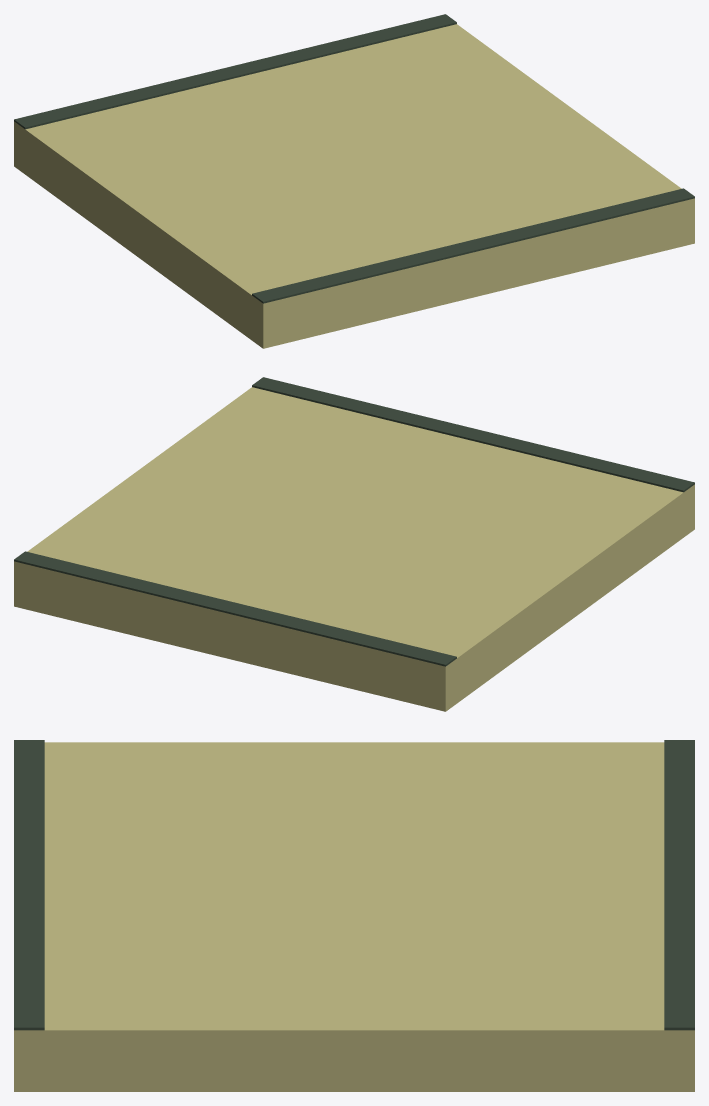
The model's file is sakura_floor_tatami.glb.
3 views of the same model, one above another, from view 1: azimuth 30°, elevation 25°; view 2: azimuth 150°, elevation 25°; view 3: azimuth 270°, elevation 25° (orthographic). The views are drawn at different scales.
Parts seen in each view (by area): view 1: sakura_floor_tatami; view 2: sakura_floor_tatami; view 3: sakura_floor_tatami.
Boxes of the visible parts, <box> form: sakura_floor_tatami: <box>14,14,694,348</box>; sakura_floor_tatami: <box>14,377,694,711</box>; sakura_floor_tatami: <box>14,740,694,1091</box>.
Size of the model in its own units: 1 by 0.104 by 1.
1 material, 1 textured.
